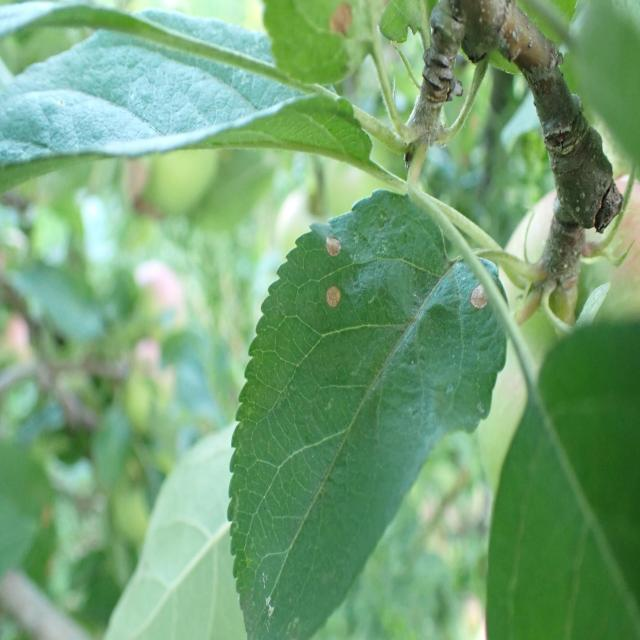frog-eye-leaf-spot: (227, 187, 510, 638)
